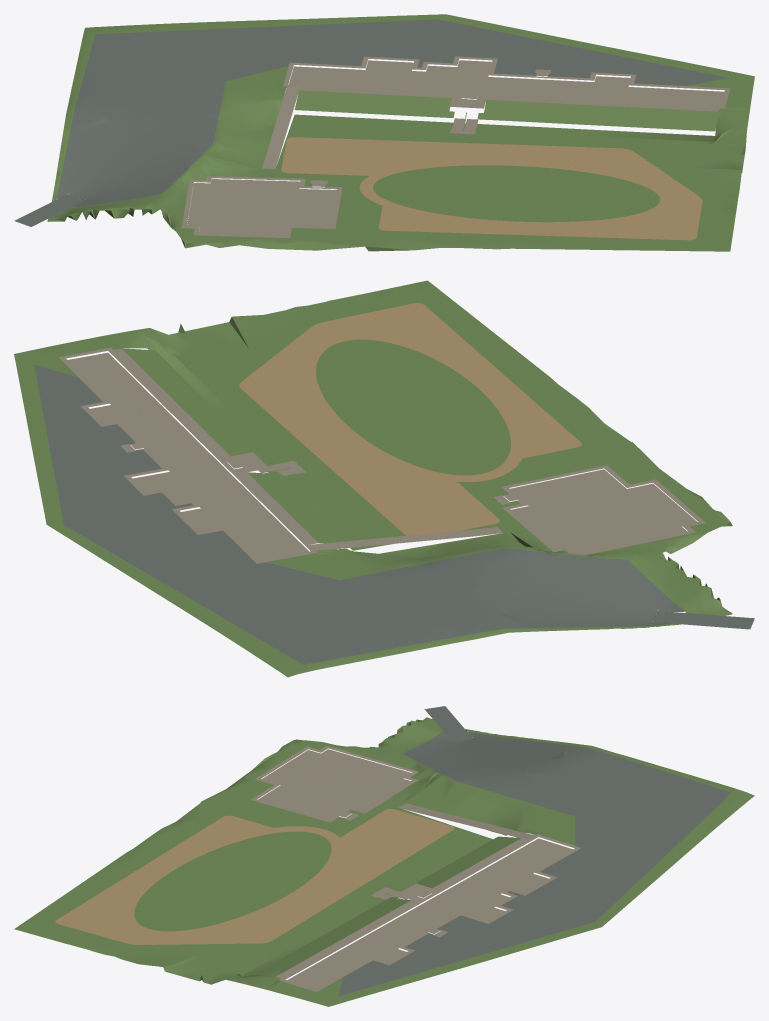
3 views of the same model, one above another, from view 1: azimuth 30°, elevation 25°; view 2: azimuth 150°, elevation 25°; view 3: azimuth 270°, elevation 25° (orthographic). The views are drawn at different scales.
Parts seen in each view (by area): view 1: surface_school-garden-ground, surface_north-west-parking, surface_rounded-field-edge, surface_grass-field, surface_underbuilding-main, surface_main-grass-slope, surface_underbuilding-gym, surface_oval-track-soil-completion, surface_main-exterior-strip, surface_stone-stand-base, surface_main-front-apron, surface_gym-exterior-strip (+2 smaller); view 2: surface_north-west-parking, surface_school-garden-ground, surface_rounded-field-edge, surface_grass-field, surface_underbuilding-main, surface_underbuilding-gym, surface_oval-track-soil-completion, surface_main-grass-slope, surface_main-exterior-strip, surface_stone-stand-base, surface_gym-exterior-strip, surface_main-front-apron (+2 smaller); view 3: surface_school-garden-ground, surface_north-west-parking, surface_rounded-field-edge, surface_grass-field, surface_underbuilding-main, surface_underbuilding-gym, surface_oval-track-soil-completion, surface_main-grass-slope, surface_main-exterior-strip, surface_stone-stand-base, surface_gym-exterior-strip, surface_main-front-apron (+2 smaller).
Part boxes in pixels (box(x1,y1,x2,y2)): surface_school-garden-ground: box(47, 14, 754, 251); surface_north-west-parking: box(56, 19, 727, 206); surface_rounded-field-edge: box(281, 137, 702, 240); surface_grass-field: box(373, 165, 659, 222); surface_underbuilding-main: box(289, 60, 724, 106); surface_main-grass-slope: box(294, 90, 718, 131); surface_underbuilding-gym: box(187, 179, 336, 235); surface_oval-track-soil-completion: box(359, 159, 673, 227); surface_main-exterior-strip: box(283, 56, 730, 108); surface_stone-stand-base: box(292, 114, 714, 141); surface_main-front-apron: box(299, 87, 719, 111); surface_gym-exterior-strip: box(181, 176, 342, 238); surface_north-west-parking: box(34, 364, 685, 664); surface_school-garden-ground: box(14, 280, 732, 677); surface_rounded-field-edge: box(239, 303, 581, 535); surface_grass-field: box(316, 339, 510, 475); surface_underbuilding-main: box(68, 352, 308, 560); surface_underbuilding-gym: box(510, 469, 696, 554); surface_oval-track-soil-completion: box(300, 333, 526, 481); surface_main-grass-slope: box(122, 348, 348, 543); surface_main-exterior-strip: box(58, 347, 317, 563); surface_stone-stand-base: box(160, 353, 368, 550); surface_gym-exterior-strip: box(501, 465, 705, 555); surface_main-front-apron: box(114, 348, 318, 544); surface_school-garden-ground: box(14, 717, 754, 1006); surface_north-west-parking: box(338, 731, 731, 995); surface_rounded-field-edge: box(55, 809, 454, 944); surface_grass-field: box(134, 831, 331, 931); surface_underbuilding-main: box(287, 838, 572, 989); surface_underbuilding-gym: box(258, 749, 411, 819); surface_oval-track-soil-completion: box(122, 826, 343, 936); surface_main-grass-slope: box(252, 836, 520, 976); surface_main-exterior-strip: box(279, 834, 581, 991); surface_stone-stand-base: box(241, 837, 492, 976); surface_gym-exterior-strip: box(251, 745, 418, 822); surface_main-front-apron: box(276, 838, 526, 978).
Bounding box in the file's own units: 190 × 6.15 × 184.
Materials: 4 (4 with a texture image).
